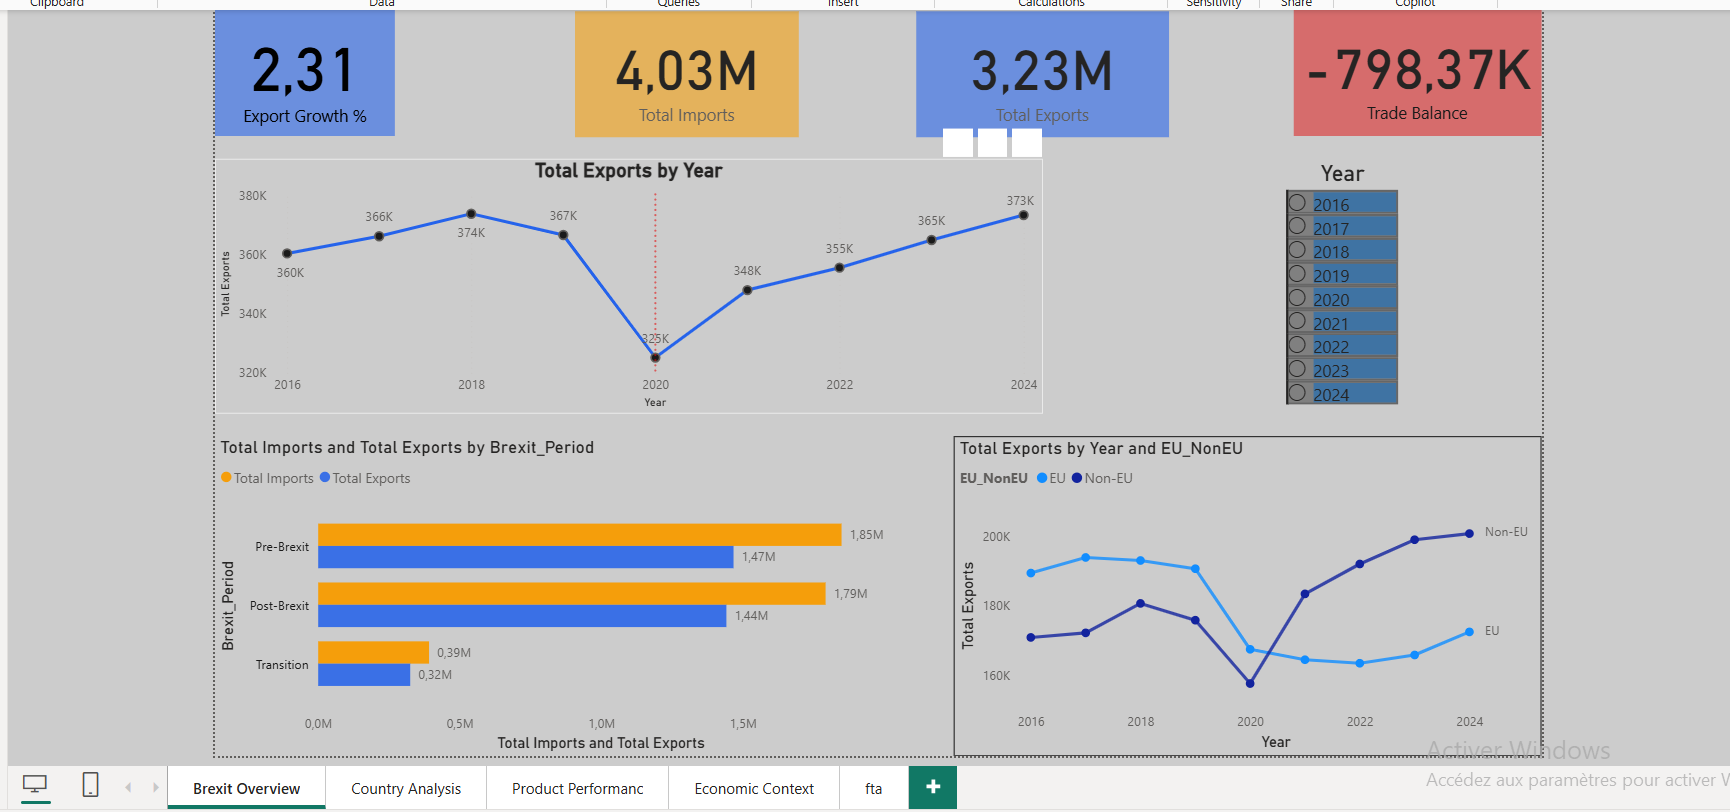

The page's visual inventory and layout, read from the dashboard file:
{"tool":"powerbi","page":{"name":"Brexit Overview","canvas":[1280,720],"ordinal":0},"visuals":[{"type":"card","fields":{"Values":["richlist table1_trade_by_country.Export Growth %"]},"box":[0,0,173.7,121.9],"z":0},{"type":"card","fields":{"Values":["richlist table1_trade_by_country.Total Exports"]},"box":[676.8,1.2,243.7,121.9],"z":1000},{"type":"card","fields":{"Values":["richlist table1_trade_by_country.Total Imports"]},"box":[347.5,1.2,216,121.9],"z":2000},{"type":"card","fields":{"Values":["richlist table1_trade_by_country.Trade Balance"]},"box":[1041.2,0,238.9,121.9],"z":3000},{"type":"lineChart","fields":{"Category":["richlist table1_trade_by_country.Year"],"Y":["richlist table1_trade_by_country.Total Exports"]},"box":[0,143.6,798.7,246.1],"z":4000},{"type":"lineChart","fields":{"Category":["richlist table1_trade_by_country.Year"],"Y":["richlist table1_trade_by_country.Total Exports"],"Series":["richlist table1_trade_by_country.EU_NonEU"]},"box":[713,411.4,567,308.8],"z":5000},{"type":"clusteredBarChart","fields":{"Category":["richlist table1_trade_by_country.Brexit_Period"],"Y":["richlist table1_trade_by_country.Total Imports","richlist table1_trade_by_country.Total Exports"]},"box":[0,411.4,664.7,308.8],"z":6000},{"type":"listSlicer","fields":{"Values":["richlist table1_trade_by_country.Year"]},"box":[1029.1,144.8,118.2,244.9],"z":7000}]}

Visuals, with their boxes on the page's 1280x720 design canvas (x1, y1, x2, y2). These are canvas units, not pixel positions in the 1730x812 screenshot, which may show the page scaled, cropped or inside an application window:
card - richlist table1_trade_by_country.Export Growth %: <bbox>0, 0, 174, 122</bbox>
card - richlist table1_trade_by_country.Total Exports: <bbox>677, 1, 920, 123</bbox>
card - richlist table1_trade_by_country.Total Imports: <bbox>348, 1, 564, 123</bbox>
card - richlist table1_trade_by_country.Trade Balance: <bbox>1041, 0, 1280, 122</bbox>
lineChart - richlist table1_trade_by_country.Year x richlist table1_trade_by_country.Total Exports: <bbox>0, 144, 799, 390</bbox>
lineChart - richlist table1_trade_by_country.Year x richlist table1_trade_by_country.Total Exports: <bbox>713, 411, 1280, 720</bbox>
clusteredBarChart - richlist table1_trade_by_country.Brexit_Period x richlist table1_trade_by_country.Total Imports: <bbox>0, 411, 665, 720</bbox>
listSlicer - richlist table1_trade_by_country.Year: <bbox>1029, 145, 1147, 390</bbox>
